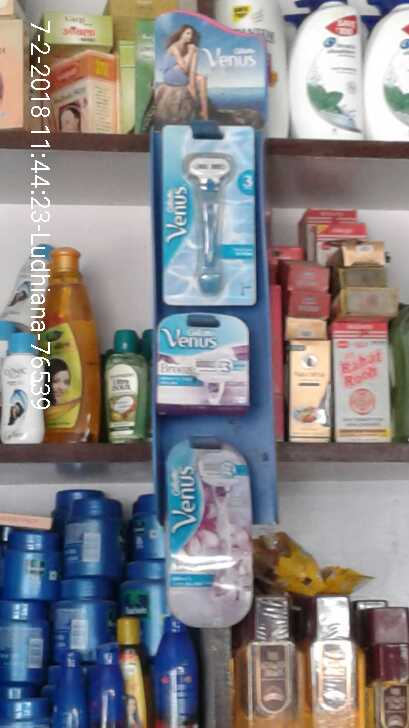beauty: (157, 439, 262, 630), (162, 131, 257, 302), (292, 3, 362, 140), (155, 315, 254, 406), (366, 1, 409, 140)
